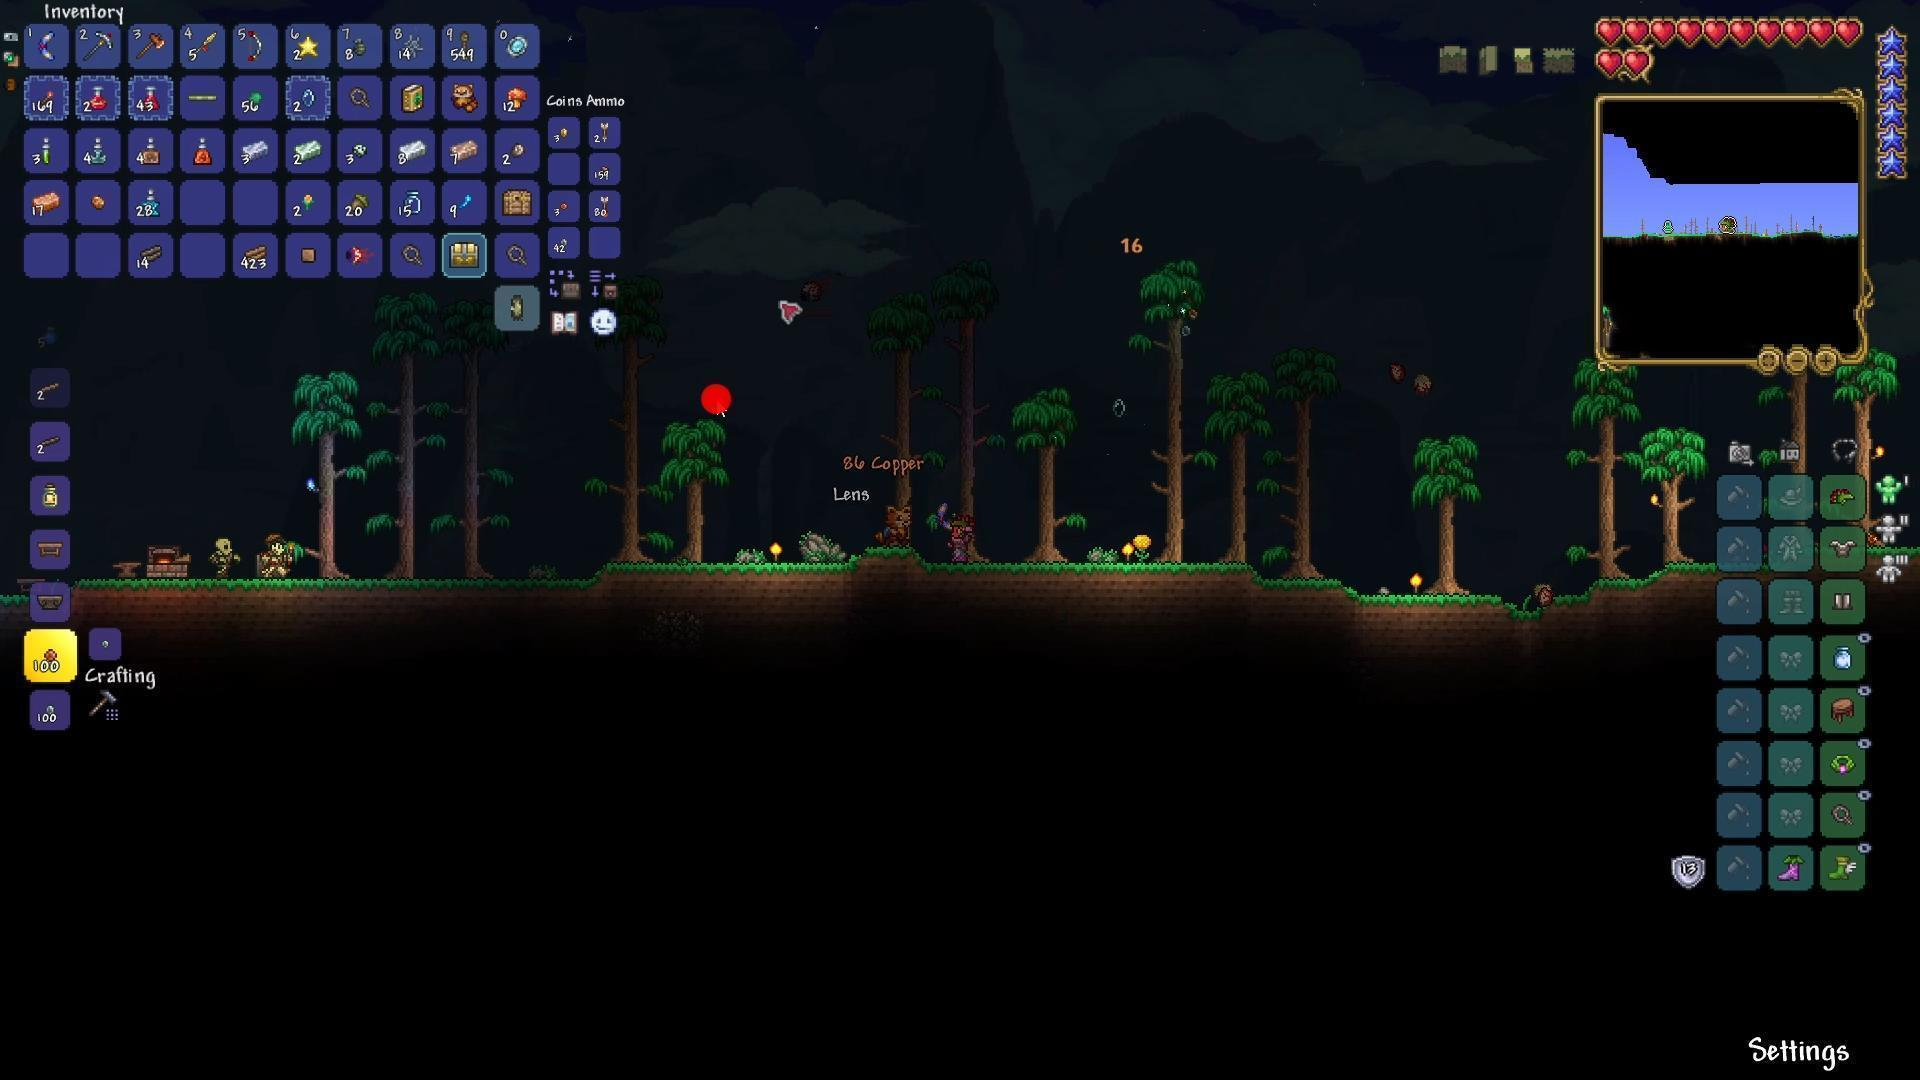anvil: (108, 549, 145, 584)
axe: (136, 32, 165, 59), (36, 537, 65, 559)
breastplate: (1829, 537, 1859, 559)
cobwebI: (404, 34, 425, 57)
eye: (342, 237, 375, 266)
furnace: (144, 545, 193, 579)
legs: (1829, 588, 1855, 612)
lens: (1105, 385, 1130, 433), (299, 86, 316, 109)
wood: (241, 240, 272, 268), (140, 240, 165, 264)
zombie: (260, 530, 295, 584), (211, 535, 237, 580)
